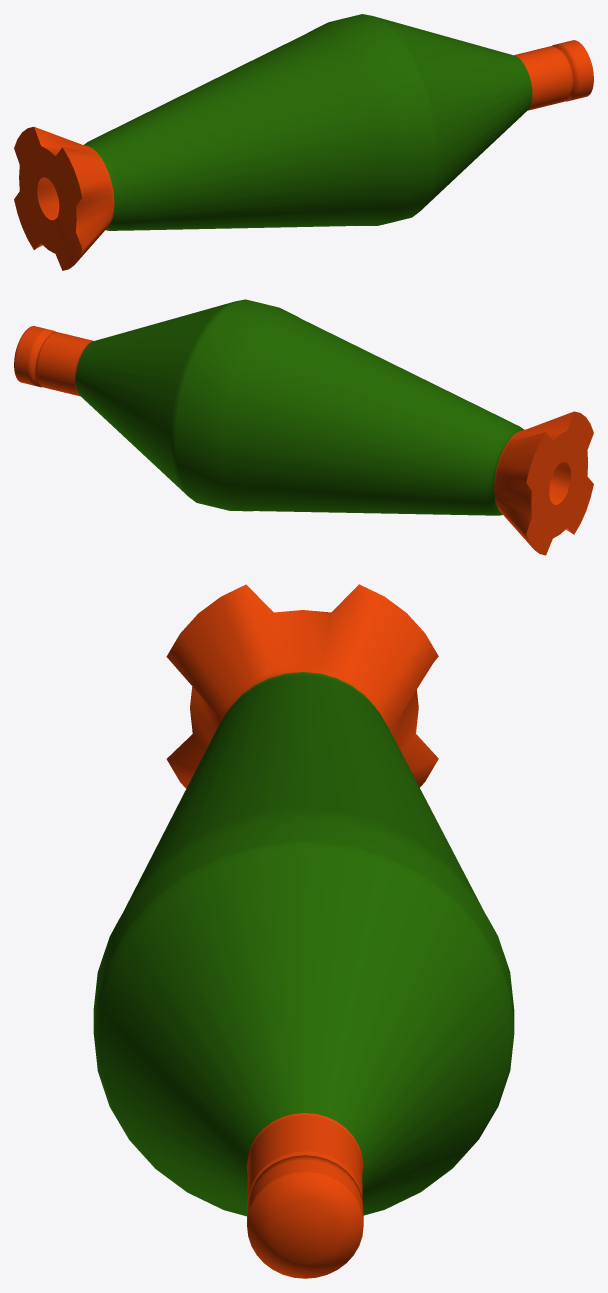
Rendered from rocket .fbx.
3 renders of one model, top to bottom at view 1: azimuth 30°, elevation 25°; view 2: azimuth 150°, elevation 25°; view 3: azimuth 270°, elevation 25°, orthographic. The views are drawn at different scales.
Visible parts, largest first — view 1: Rocket v2 .002; view 2: Rocket v2 .002; view 3: Rocket v2 .002.
Boxes of the visible parts, x1,y1,x2,y2 form: Rocket v2 .002: (14,14,593,270); Rocket v2 .002: (14,299,593,555); Rocket v2 .002: (93,584,514,1278).
Bounding box in the file's own units: 202 × 68.29 × 68.31.
